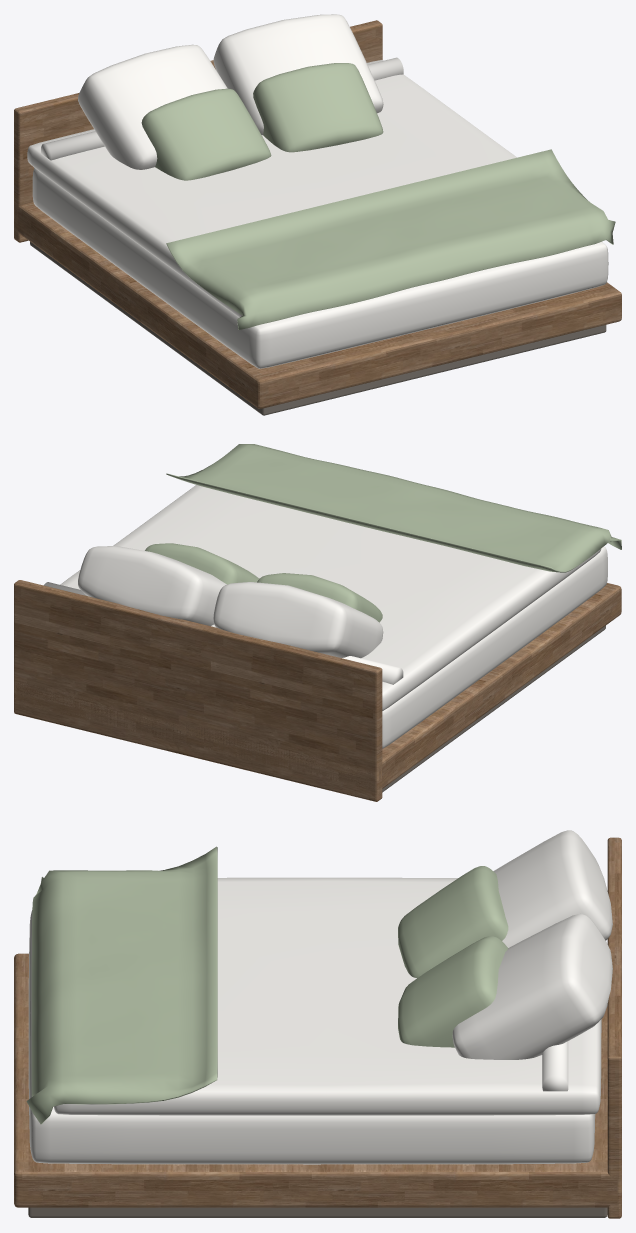
Rendered from bed-platform-oak.glb.
3 views of the same model, one above another, from view 1: azimuth 30°, elevation 25°; view 2: azimuth 150°, elevation 25°; view 3: azimuth 270°, elevation 25° (orthographic). The views are drawn at different scales.
Parts seen in each view (by area): view 1: throw_sage, duvet, mattress, frame_platform, pillow_white_l, pillow_sage_r, pillow_white_r, pillow_sage_l, frame_headboard, frame_plinth, duvet_fold; view 2: frame_headboard, duvet, throw_sage, frame_platform, pillow_white_l, mattress, pillow_white_r, pillow_sage_r, pillow_sage_l, frame_plinth, duvet_fold; view 3: duvet, throw_sage, frame_platform, mattress, pillow_white_r, pillow_white_l, pillow_sage_r, pillow_sage_l, frame_plinth, frame_headboard, duvet_fold.
Boxes of the visible parts, left/top/right/bottom form: throw_sage: left=166, top=149, right=615, bottom=329; duvet: left=27, top=60, right=516, bottom=317; mattress: left=32, top=168, right=608, bottom=368; frame_platform: left=15, top=202, right=621, bottom=408; pillow_white_l: left=78, top=44, right=227, bottom=169; pillow_sage_r: left=253, top=63, right=383, bottom=152; pillow_white_r: left=213, top=14, right=383, bottom=135; pillow_sage_l: left=141, top=88, right=271, bottom=180; frame_headboard: left=14, top=20, right=382, bottom=242; frame_plinth: left=30, top=242, right=606, bottom=415; duvet_fold: left=41, top=57, right=403, bottom=160; frame_headboard: left=14, top=580, right=382, bottom=801; duvet: left=60, top=485, right=601, bottom=710; throw_sage: left=166, top=444, right=621, bottom=572; frame_platform: left=16, top=583, right=621, bottom=789; pillow_white_l: left=213, top=582, right=383, bottom=658; mattress: left=382, top=546, right=607, bottom=748; pillow_white_r: left=78, top=546, right=226, bottom=626; pillow_sage_r: left=145, top=543, right=259, bottom=584; pillow_sage_l: left=257, top=573, right=382, bottom=622; frame_plinth: left=382, top=625, right=605, bottom=792; duvet_fold: left=44, top=582, right=403, bottom=684; duvet: left=54, top=877, right=601, bottom=1115; throw_sage: left=26, top=846, right=217, bottom=1124; frame_platform: left=14, top=953, right=617, bottom=1207; mattress: left=28, top=910, right=595, bottom=1164; pillow_white_r: left=452, top=914, right=612, bottom=1059; pillow_white_l: left=493, top=830, right=612, bottom=947; pillow_sage_r: left=398, top=936, right=508, bottom=1047; pillow_sage_l: left=398, top=866, right=508, bottom=978; frame_plinth: left=28, top=1207, right=607, bottom=1217; frame_headboard: left=607, top=837, right=621, bottom=1218; duvet_fold: left=542, top=1041, right=568, bottom=1091.
Size of the model in its own units: 1.9 by 0.8383 by 2.1.
Materials: 4 (1 with a texture image).
